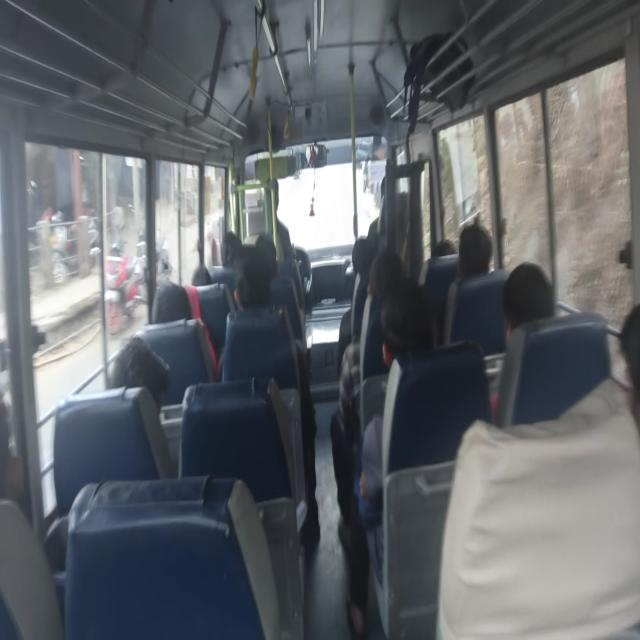person: (218, 232, 320, 550), (344, 280, 434, 636), (330, 248, 404, 528), (488, 261, 555, 424), (443, 223, 493, 343), (502, 260, 555, 348), (108, 335, 171, 409), (618, 302, 640, 429), (457, 222, 492, 280), (151, 280, 192, 324), (220, 230, 241, 268)
